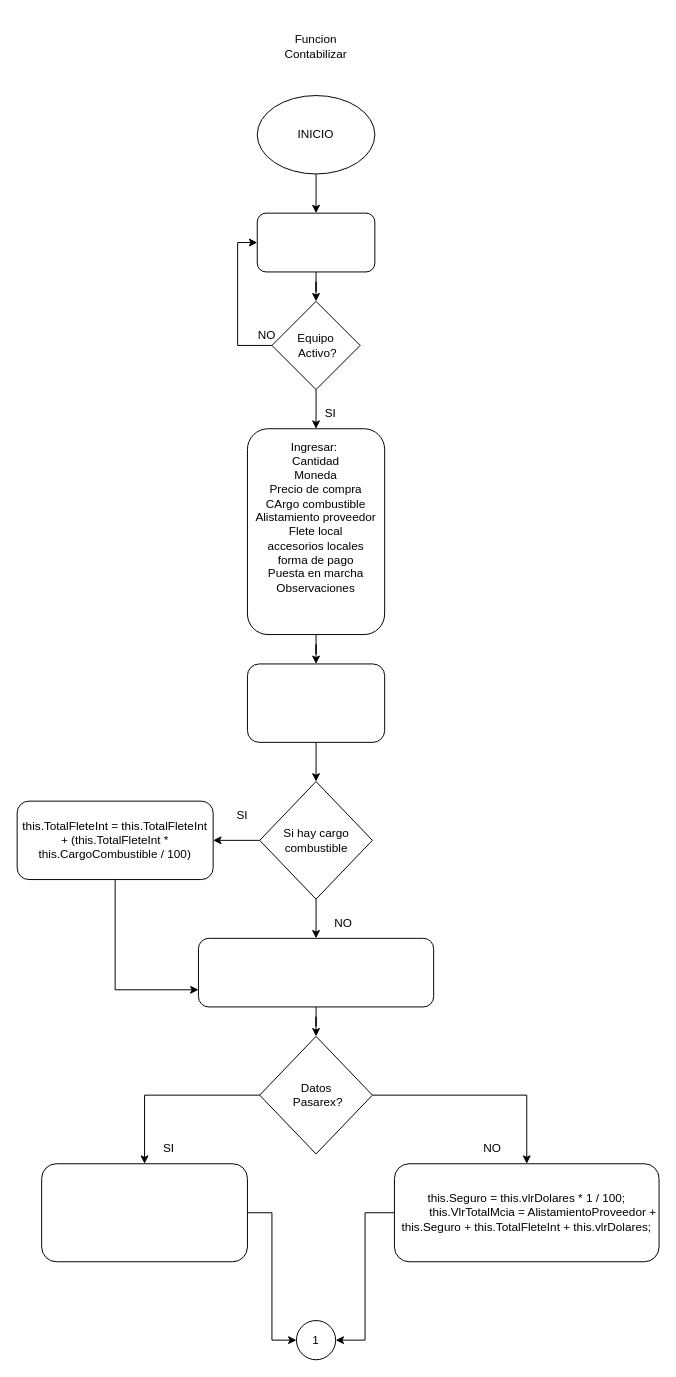
Image size: 676x1377. Some labels were removed from this diagram. The centre of each missing label's shape, as x and y in pixels:
"Ingresar datos Equipo el sistema busca el equipo" belongs at point (315, 242).
"this.Imprevistos = this.TotalFleteInt / 0.9;" belongs at point (315, 972).
"this.vlrDolares = PrecioCompra;" belongs at point (315, 702).
"VlrMercancia=AlistamientoProveedor + TotalFleteInt + VlrDolares" belongs at point (144, 1212).
